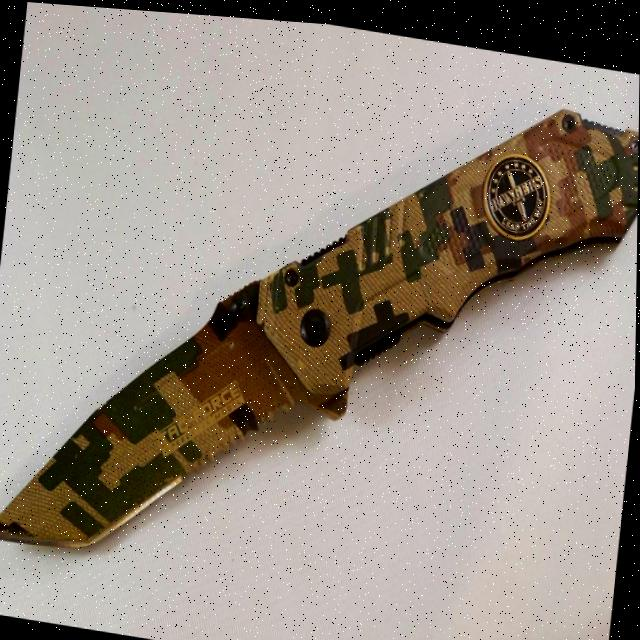knife: (0, 13, 640, 637)
